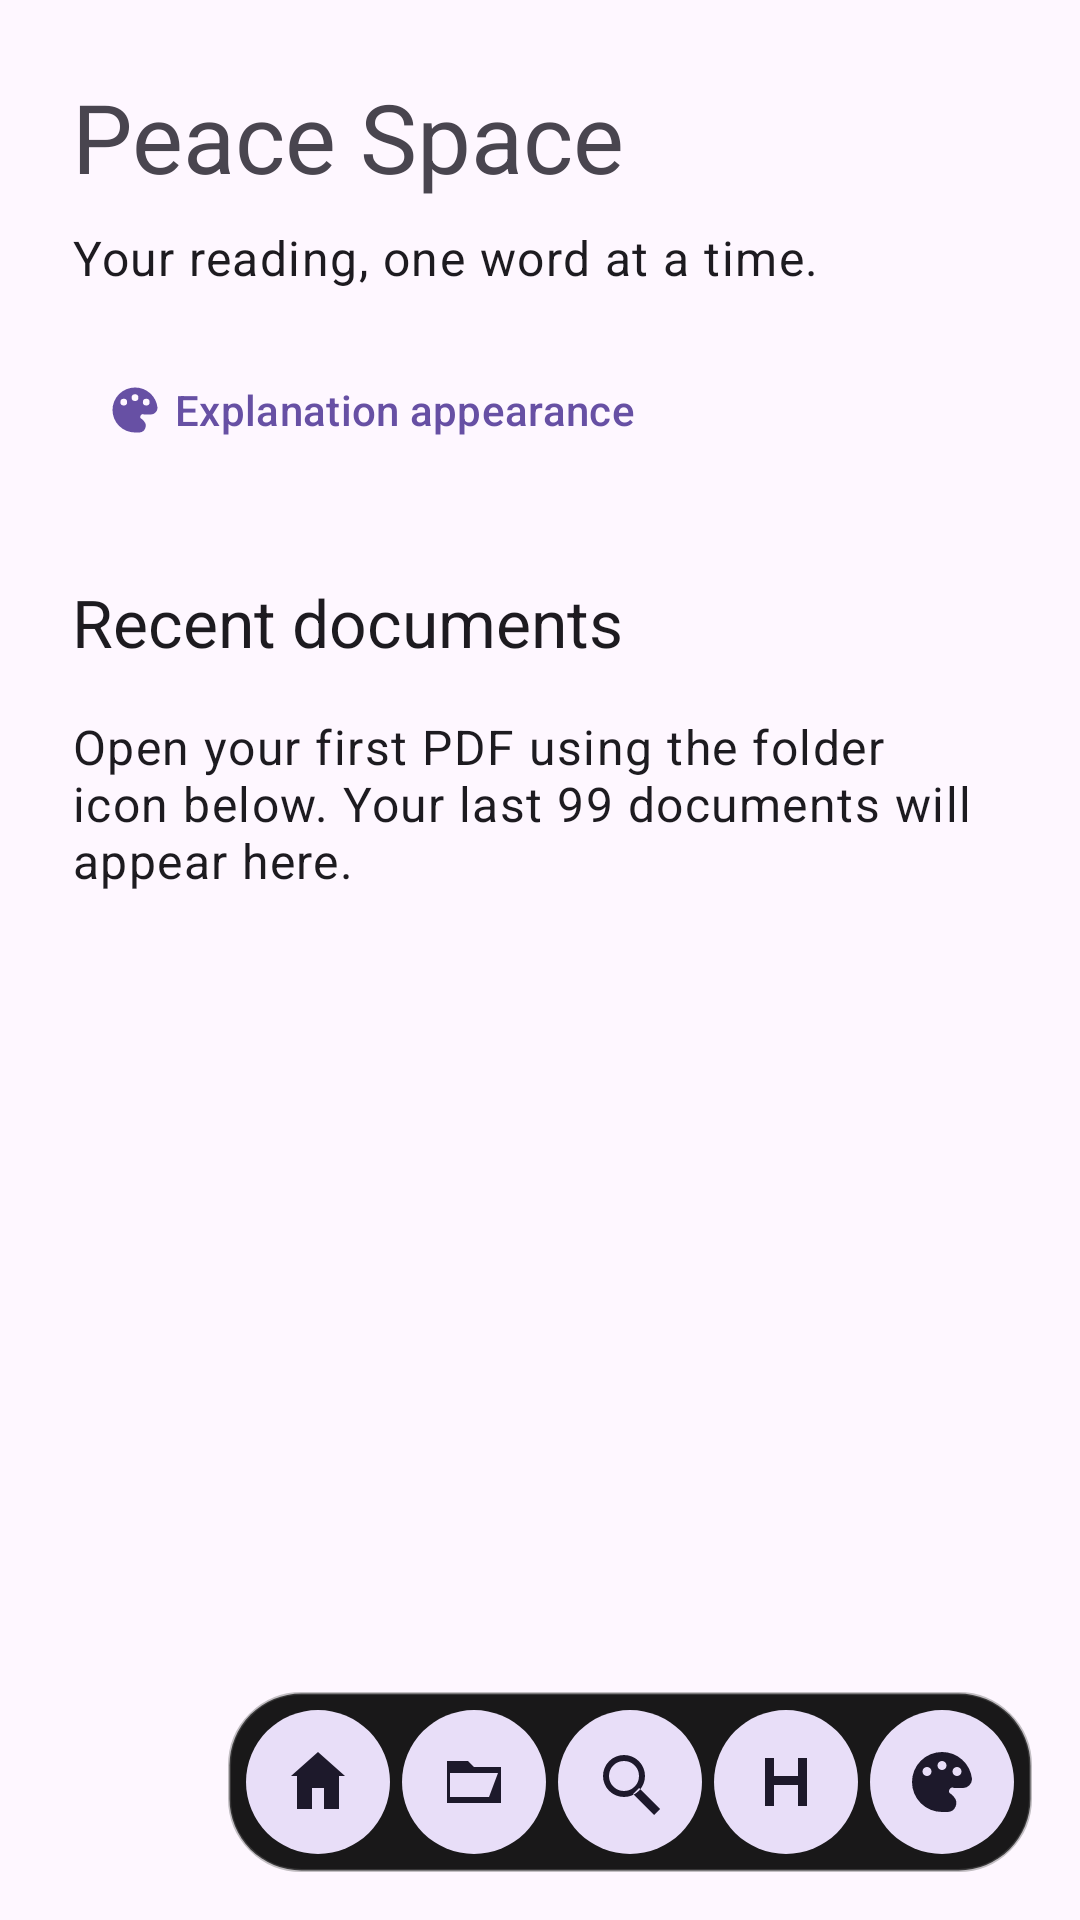

Icon bounding boxes for this 1080 x 1920 phone screenshot, format [x1=x1, y1=y1, x2=x2, y2=y2]:
Open PDF: [x1=402, y1=1710, x2=546, y2=1854]
Search in document: [x1=558, y1=1710, x2=702, y2=1854]
